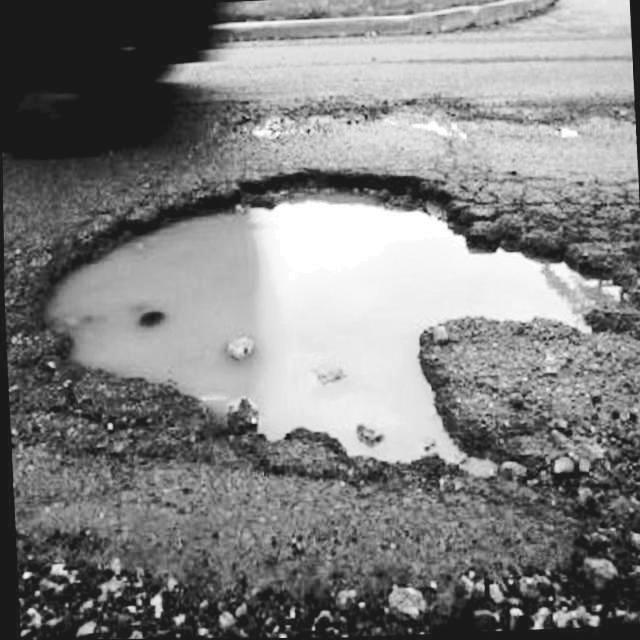Pothole: (19, 143, 629, 497)
